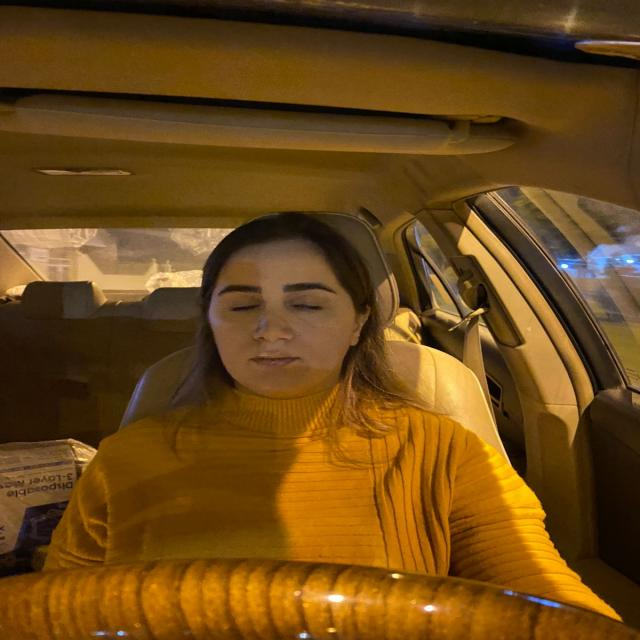drowsy: (196, 229, 371, 396)
